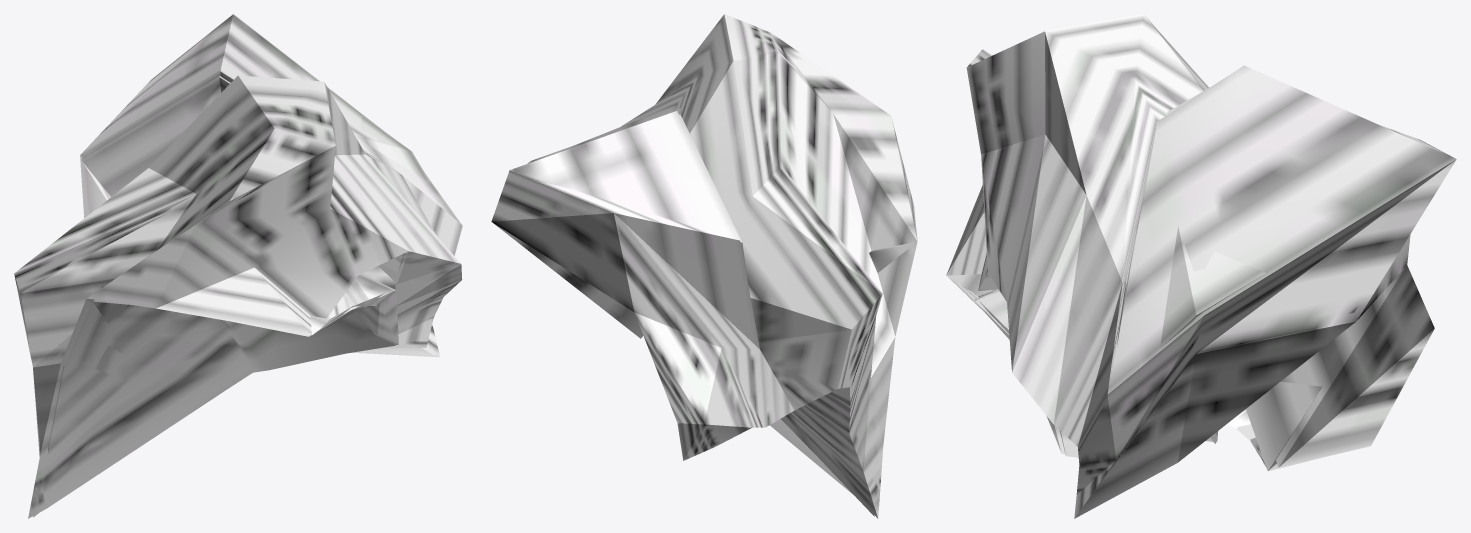
Rendered from trash_can_p2.glb.
3 renders of one model, left to right at view 1: azimuth 30°, elevation 25°; view 2: azimuth 150°, elevation 25°; view 3: azimuth 270°, elevation 25°, orthographic. The views are drawn at different scales.
Parts seen in each view (by area): view 1: trash_can_p2; view 2: trash_can_p2; view 3: trash_can_p2.
Part boxes in pixels (<box>): trash_can_p2: <box>14,14,462,518</box>; trash_can_p2: <box>491,14,917,518</box>; trash_can_p2: <box>946,14,1456,518</box>.
Bounding box in the file's own units: 0.0926 × 0.0947 × 0.0788.
1 material, 1 textured.
